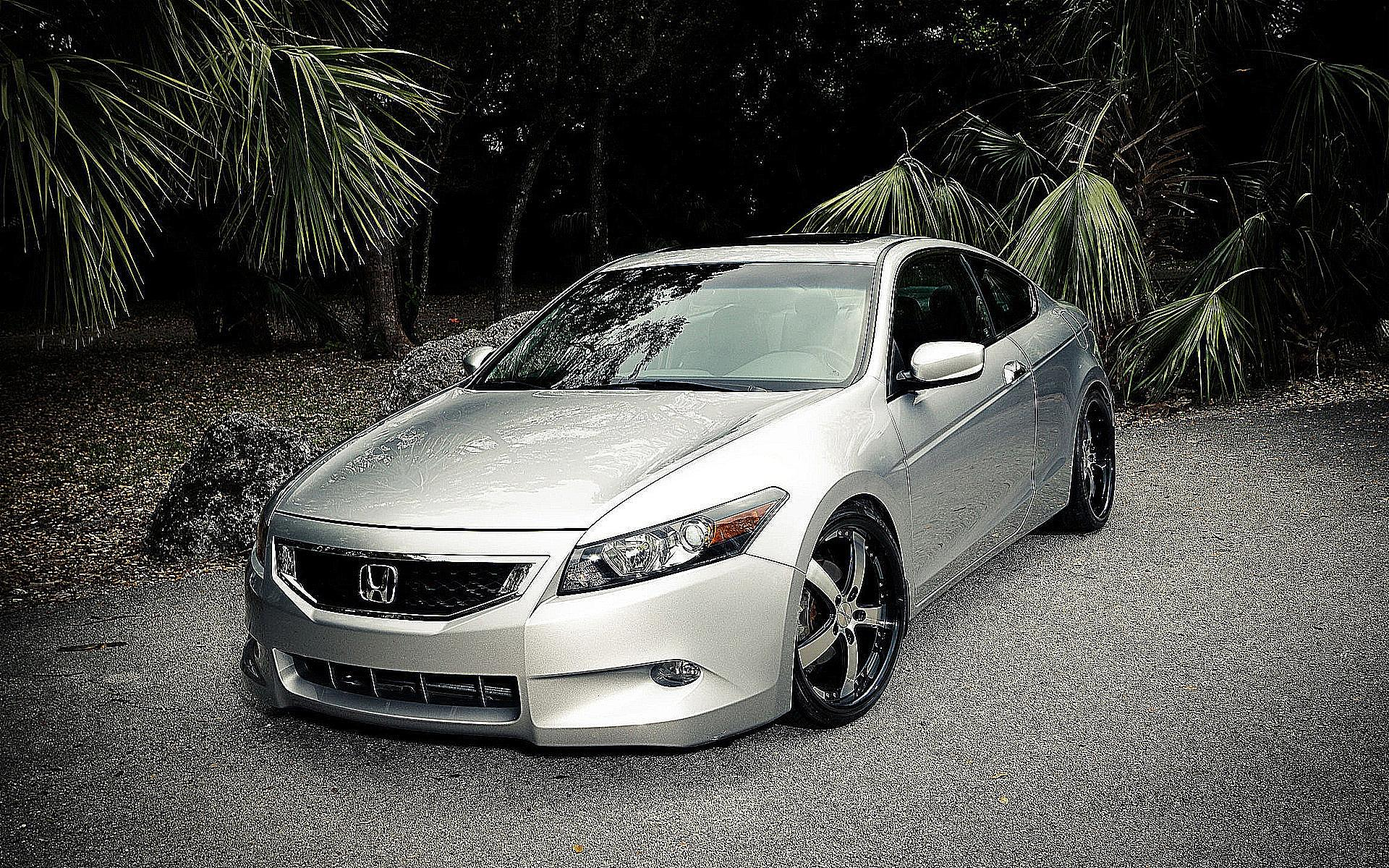Car hood: (261, 381, 849, 535)
Fender - -F-L-: (737, 370, 917, 624)
Fender - -R-L-: (1034, 316, 1096, 531)
Front bumper: (213, 557, 817, 763)
Headlight - -L-: (549, 479, 791, 600)
Headlight - -R-: (243, 505, 290, 579)
Passenger-s door - -F-L-: (896, 243, 1048, 608)
Rear bumper: (1090, 368, 1133, 429)
Side bumper - -L-: (896, 488, 1092, 627)
Side mirror - -L-: (897, 335, 999, 390)
Side mirror - -R-: (450, 339, 516, 384)
